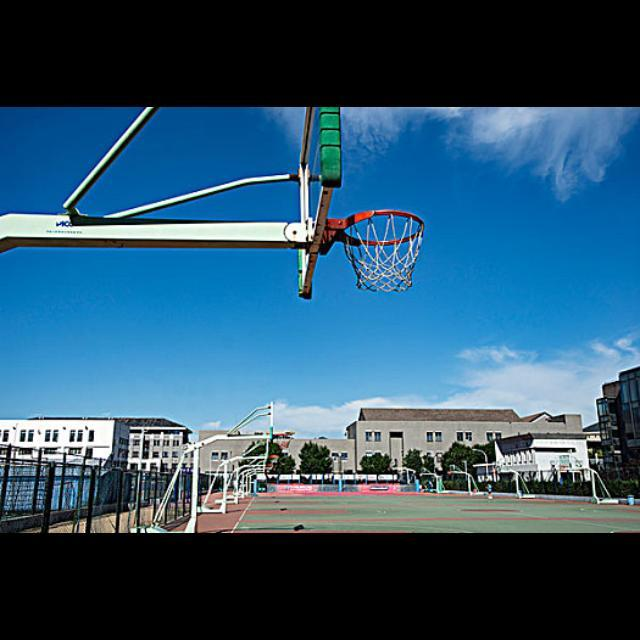rim: (344, 210, 424, 292)
